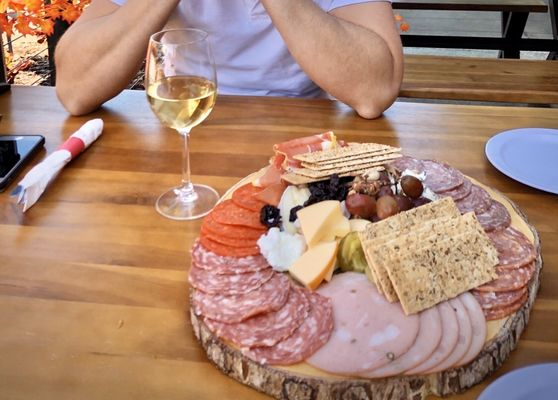sandwich: (1, 118, 104, 223)
soup: (360, 193, 500, 316)
